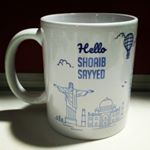cups: (3, 11, 142, 143)
